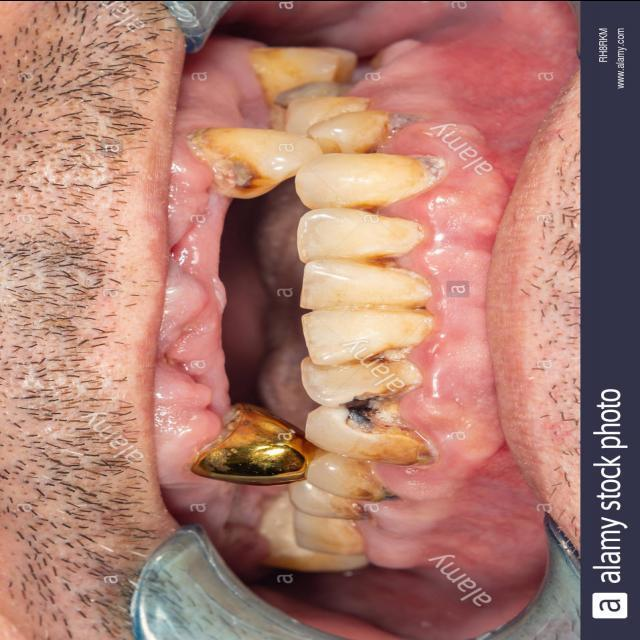decay: (344, 376, 420, 434), (354, 482, 397, 504)
